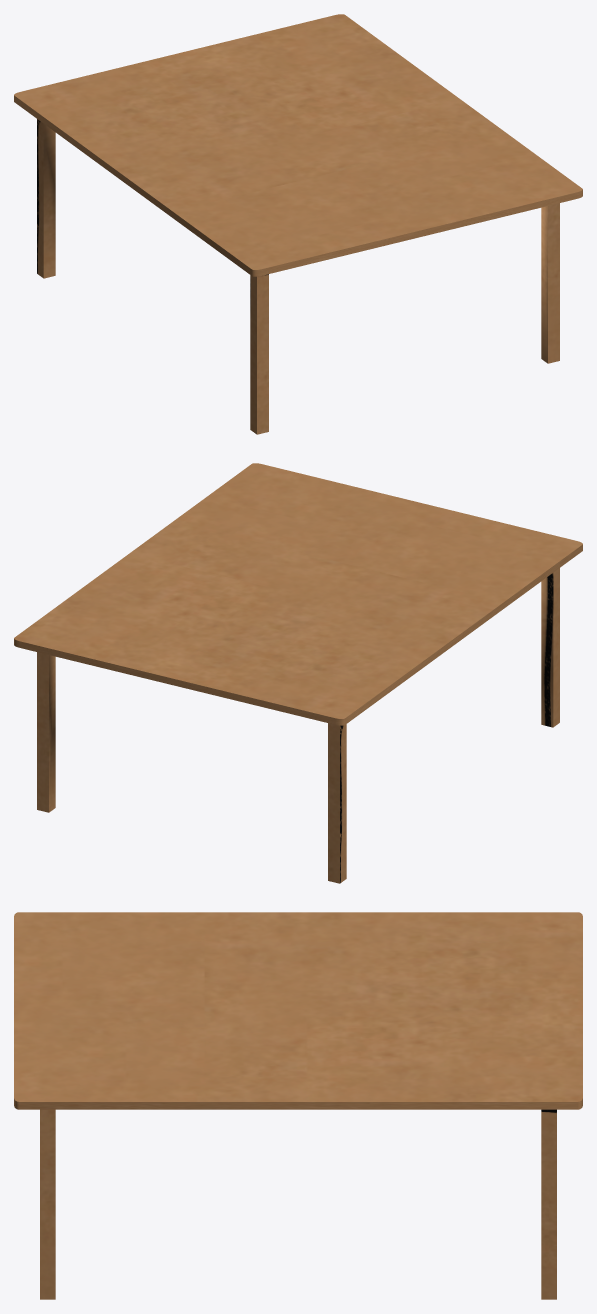
The model's file is table.fbx.
3 views of the same model, one above another, from view 1: azimuth 30°, elevation 25°; view 2: azimuth 150°, elevation 25°; view 3: azimuth 270°, elevation 25° (orthographic). The views are drawn at different scales.
Visible parts, largest first — view 1: Table.001; view 2: Table.001; view 3: Table.001.
Part boxes in pixels (x1,y1,x2,y2): Table.001: [14, 14, 582, 434]; Table.001: [14, 463, 582, 883]; Table.001: [14, 912, 582, 1299].
Size of the model in its own units: 392 by 198 by 497.
